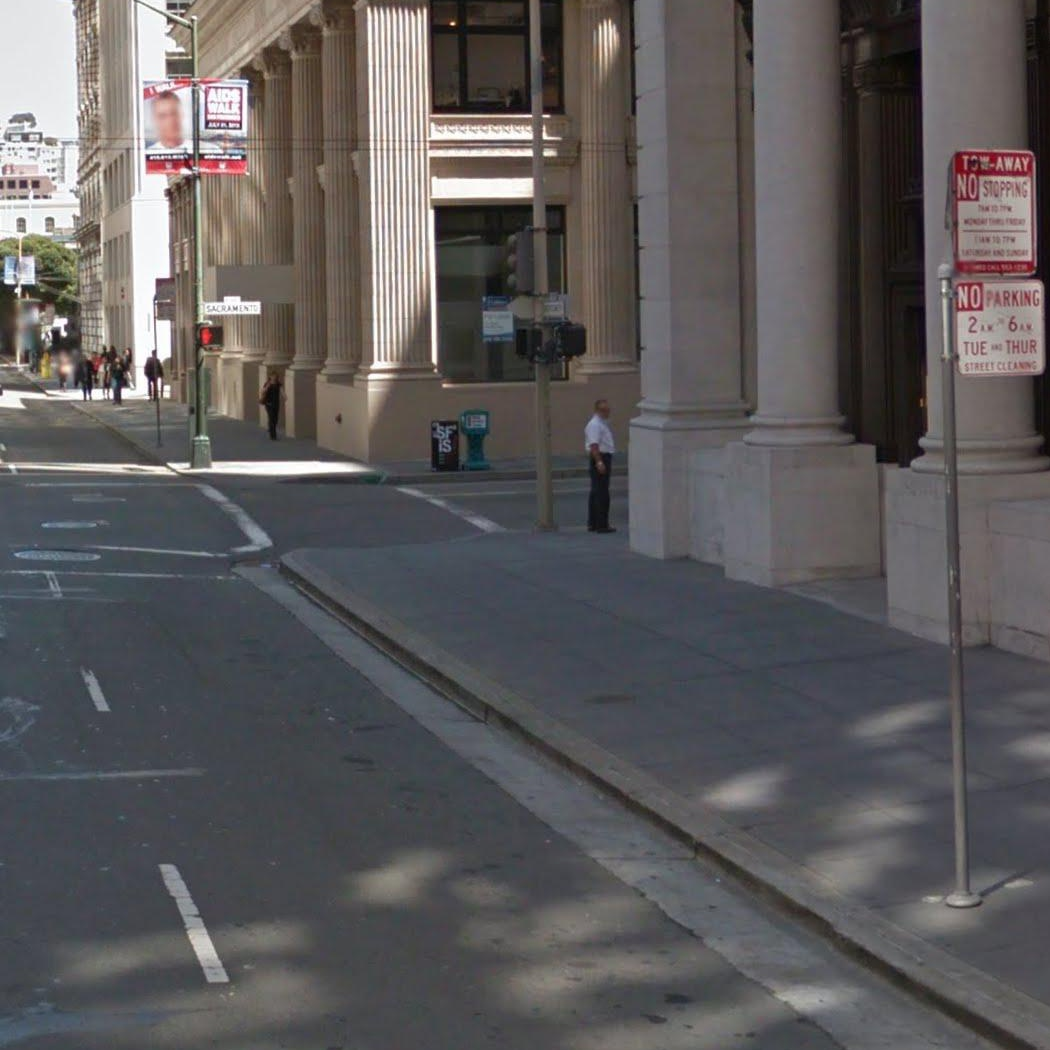No Parking: (951, 279, 1047, 378)
